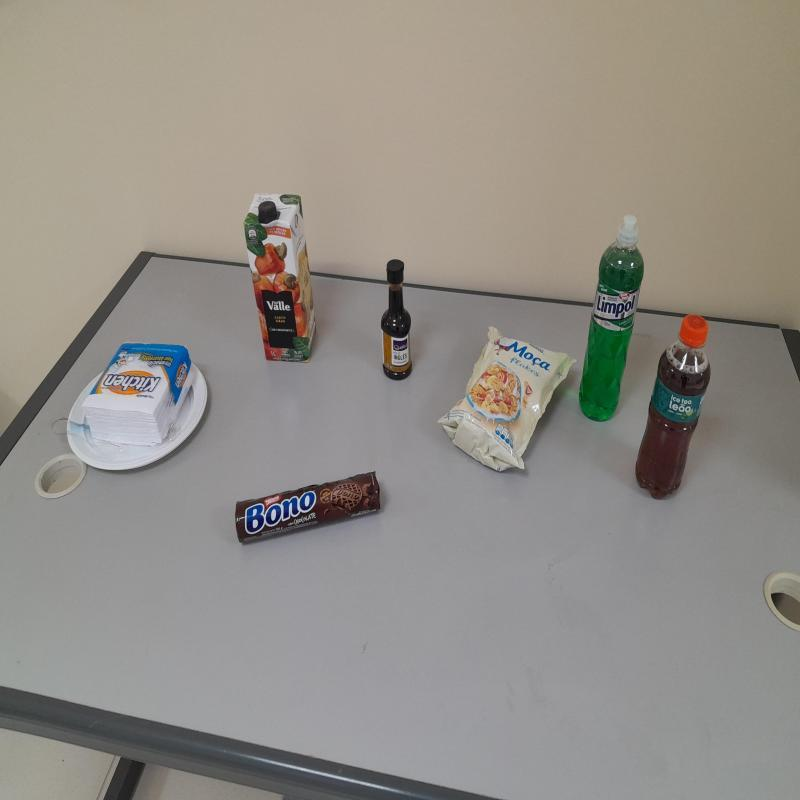Cleaner: (579, 218, 644, 426)
Cookies: (233, 473, 384, 548)
CornFlakes: (441, 330, 567, 476)
EnglishSauce: (381, 259, 413, 380)
IceTea: (635, 319, 713, 501)
